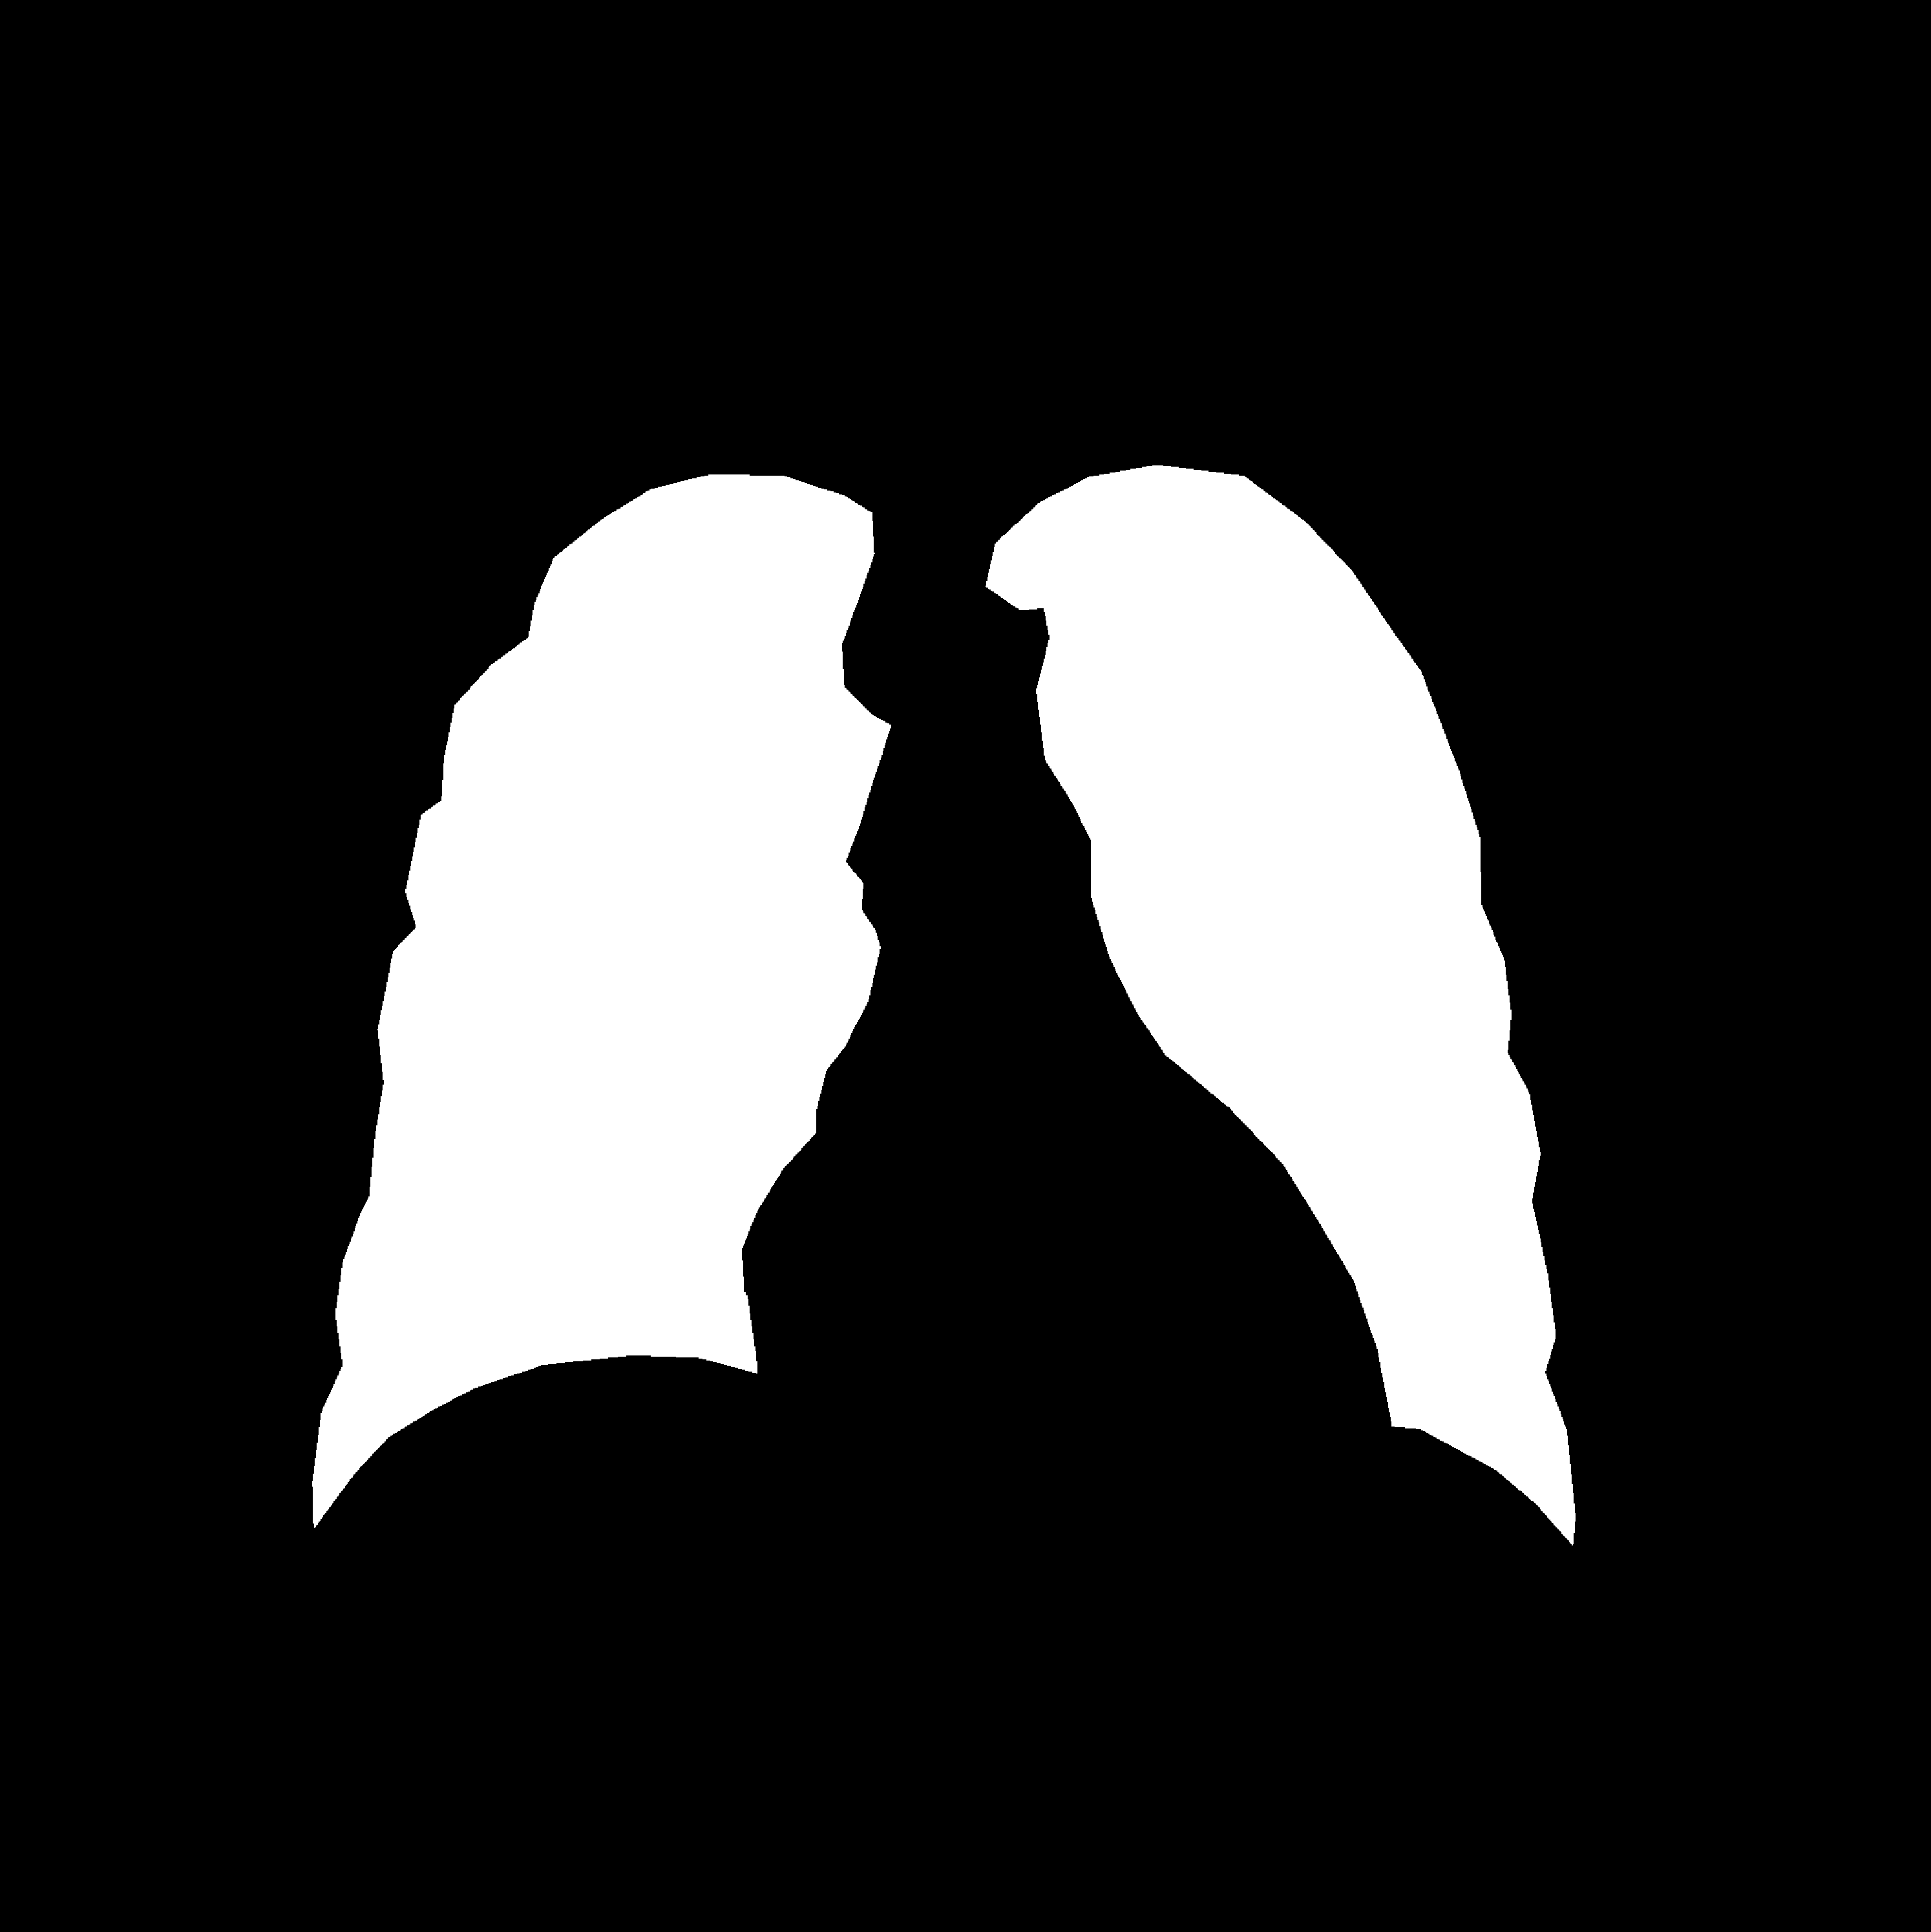heart: (743, 1102, 1383, 1472)
left_lung: (313, 474, 891, 1527)
right_lung: (985, 465, 1576, 1545)
